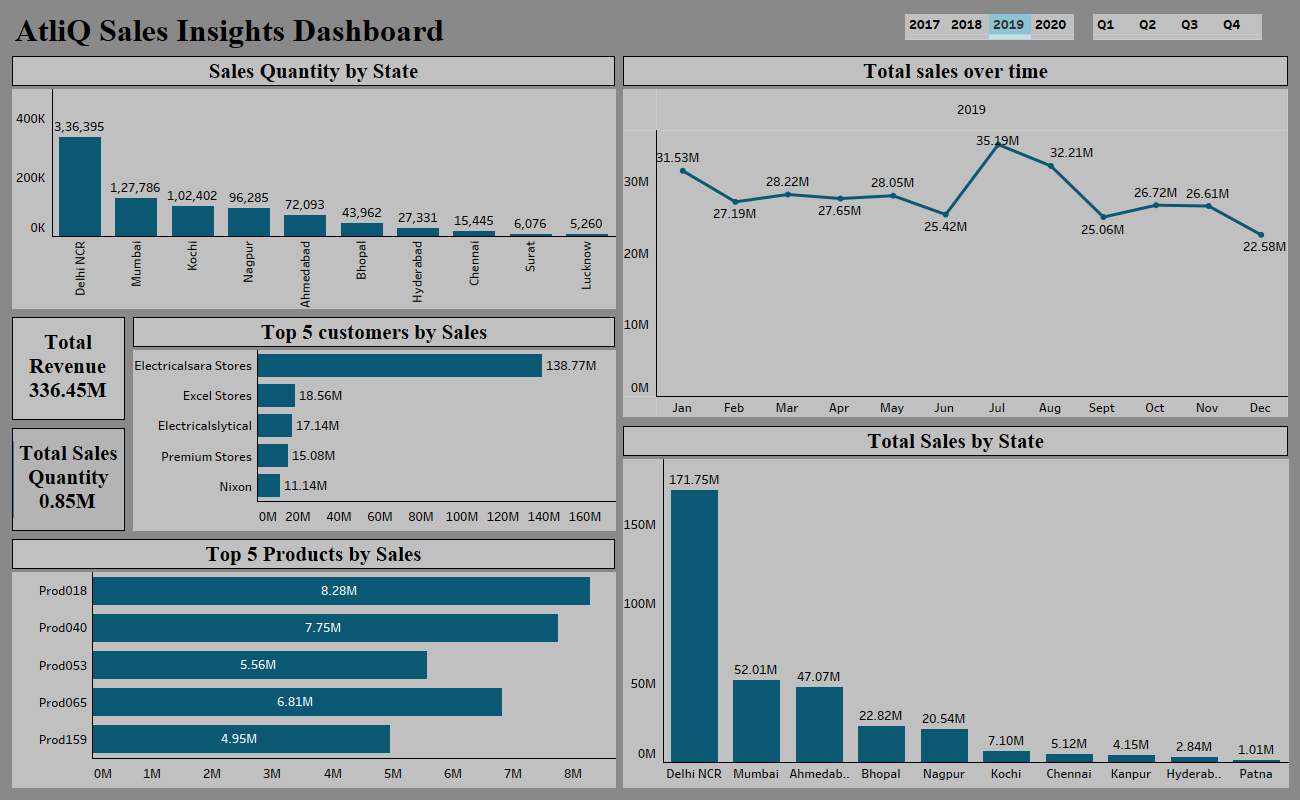

This screenshot's page, from the dashboard's own definition file:
{"tool":"tableau","page":{"name":"Sales Dashboard","canvas":[1300,800],"ordinal":1},"visuals":[{"type":"title","box":[8,8,1284,44]},{"type":"worksheet","title":"Year","mark":"Automatic","cols":["cy_date"],"box":[905,14,176,27]},{"type":"worksheet","title":"Quarter","mark":"Automatic","cols":["cy_date"],"box":[1093,14,184,26]},{"type":"worksheet","title":"Sales quantity by market","mark":"Automatic","rows":["sales_qty"],"cols":["markets_name"],"box":[8,52,611,281]},{"type":"worksheet","title":"Revenue by year","mark":"Line","rows":["Calculation_562668527937150976"],"cols":["date","date"],"box":[619,52,673,370]},{"type":"worksheet","title":"Revenue","mark":"Automatic","box":[8,333,121.1,104]},{"type":"worksheet","title":"Top 5 customers by revenue","mark":"Automatic","rows":["custmer_name"],"cols":["Calculation_562668527937150976"],"box":[129.1,333,489.9,202]},{"type":"worksheet","title":"Revenue by market","mark":"Bar","rows":["Calculation_562668527937150976"],"cols":["markets_name"],"box":[619,422,673,370]},{"type":"worksheet","title":"Quantity","mark":"Bar","box":[8,437,121.1,98]},{"type":"worksheet","title":"Top 5 products by revenue","mark":"Automatic","rows":["product_code (products)"],"cols":["Calculation_562668527937150976"],"box":[8,535,611,257]}]}

Visuals, with their boxes in screenshot pixels (x1, y1, x2, y2), scaled from the page's 1300x800 canvas onto the 1300x800 screenshot:
title: (x1=8, y1=8, x2=1292, y2=52)
"Year" worksheet: (x1=905, y1=14, x2=1081, y2=41)
"Quarter" worksheet: (x1=1093, y1=14, x2=1277, y2=40)
"Sales quantity by market" worksheet: (x1=8, y1=52, x2=619, y2=333)
"Revenue by year" worksheet (Line marks): (x1=619, y1=52, x2=1292, y2=422)
"Revenue" worksheet: (x1=8, y1=333, x2=129, y2=437)
"Top 5 customers by revenue" worksheet: (x1=129, y1=333, x2=619, y2=535)
"Revenue by market" worksheet (Bar marks): (x1=619, y1=422, x2=1292, y2=792)
"Quantity" worksheet (Bar marks): (x1=8, y1=437, x2=129, y2=535)
"Top 5 products by revenue" worksheet: (x1=8, y1=535, x2=619, y2=792)
